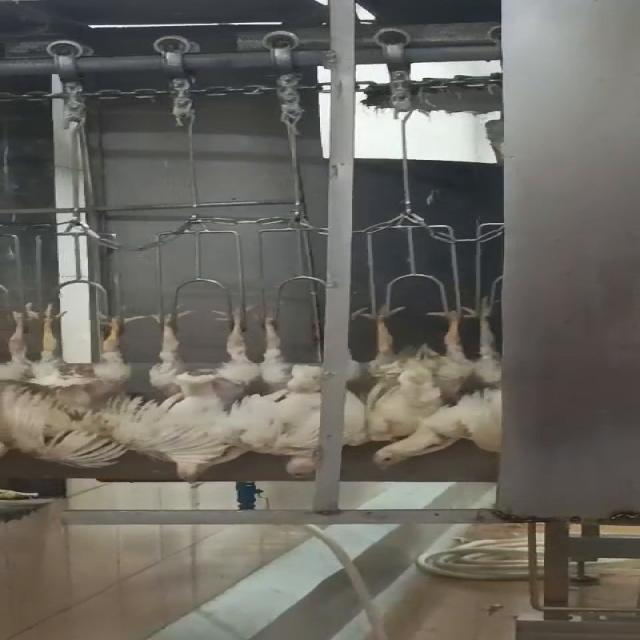chicken: (372, 284, 506, 472), (114, 306, 253, 482), (41, 302, 152, 474), (347, 298, 470, 448), (240, 312, 339, 478), (0, 303, 44, 463)
